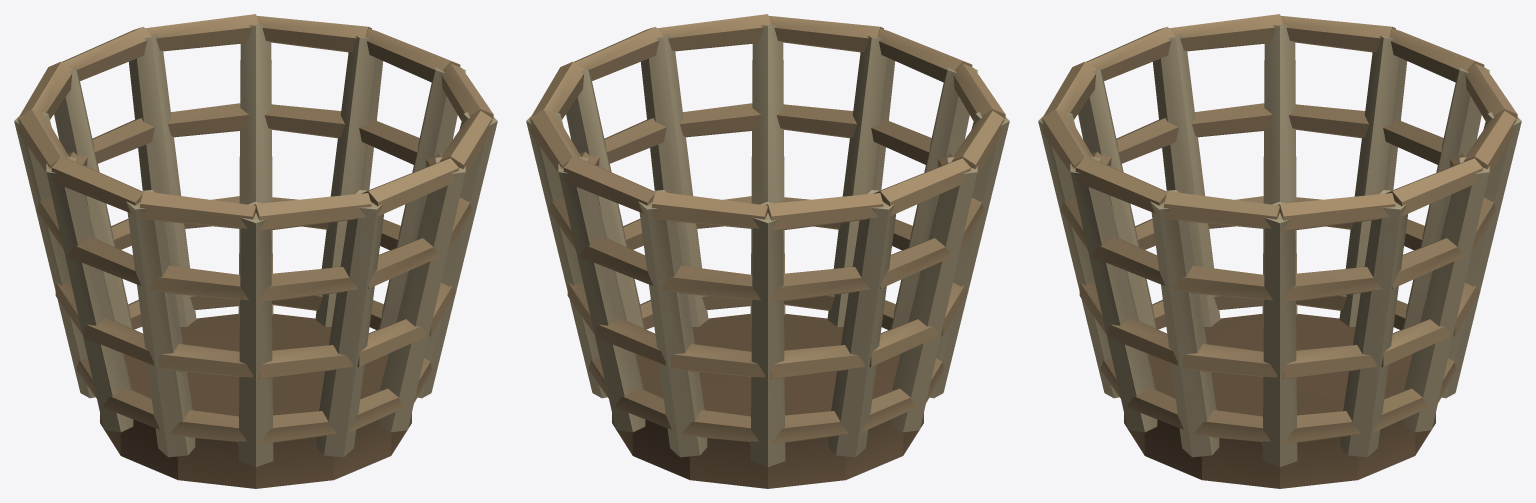
The model's file is basket_empty.glb.
3 renders of one model, left to right at view 1: azimuth 30°, elevation 25°; view 2: azimuth 150°, elevation 25°; view 3: azimuth 270°, elevation 25°, orthographic.
Parts seen in each view (by area): view 1: basket_empty; view 2: basket_empty; view 3: basket_empty.
Boxes of the visible parts, box(x1,y1,x2,y2) form: basket_empty: box(14, 14, 497, 488); basket_empty: box(526, 14, 1009, 488); basket_empty: box(1038, 14, 1521, 488).
Bounding box in the file's own units: 0.7749 × 0.555 × 0.7749.
